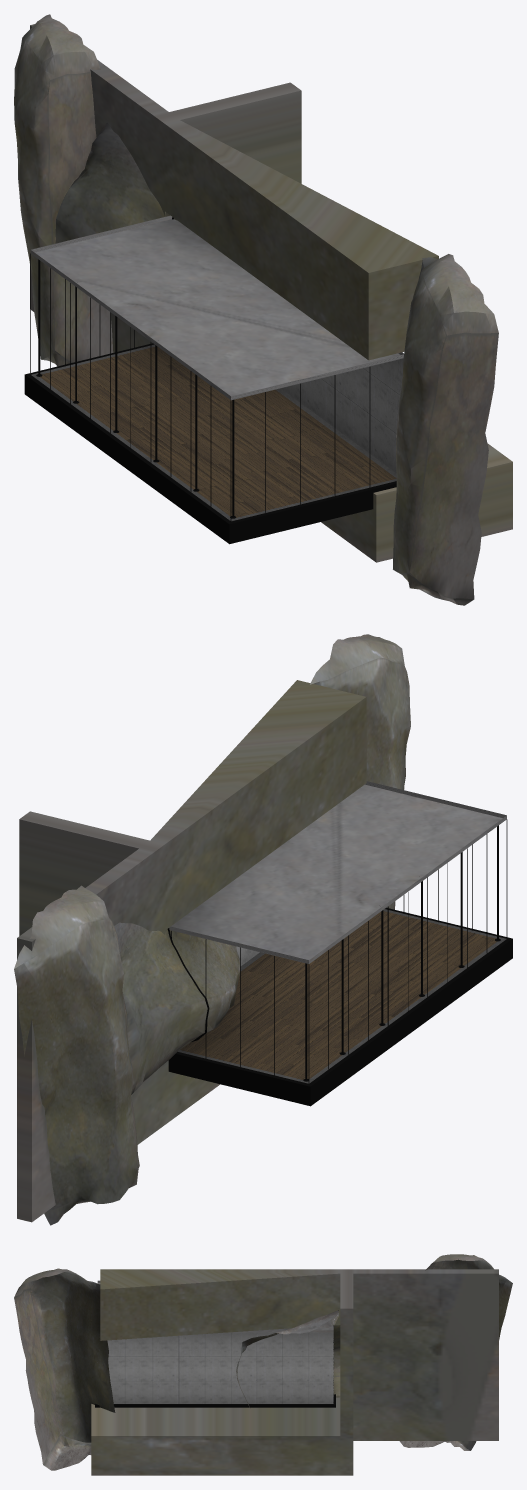
Rendered from house-01.obj.
3 views of the same model, one above another, from view 1: azimuth 30°, elevation 25°; view 2: azimuth 150°, elevation 25°; view 3: azimuth 270°, elevation 25° (orthographic). The views are drawn at different scales.
Parts seen in each view (by area): view 1: SURF-house.001; view 2: SURF-house.001; view 3: SURF-house.001.
Part boxes in pixels (x1,y1,x2,y2): SURF-house.001: [14, 14, 512, 605]; SURF-house.001: [14, 634, 512, 1225]; SURF-house.001: [14, 1254, 512, 1475].
Bounding box in the file's own units: 7.39 × 8.55 × 19.34.
